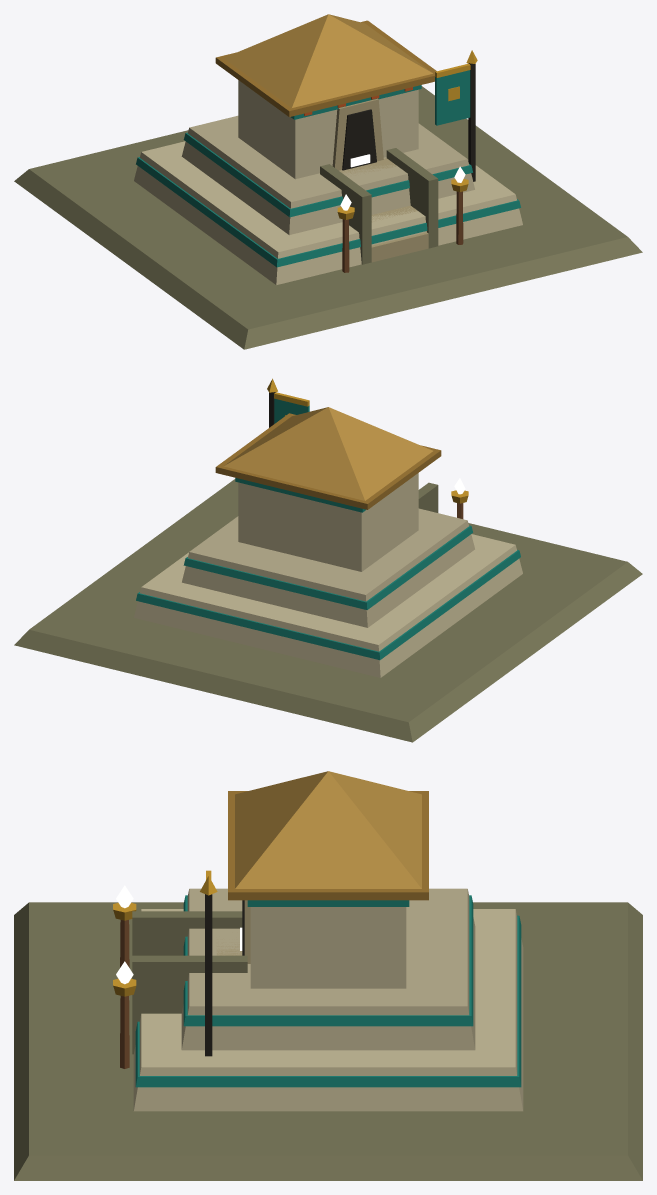
Rendered from castle_t1.glb.
3 views of the same model, one above another, from view 1: azimuth 30°, elevation 25°; view 2: azimuth 150°, elevation 25°; view 3: azimuth 270°, elevation 25° (orthographic). The views are drawn at different scales.
Parts seen in each view (by area): view 1: body; view 2: body; view 3: body.
Part boxes in pixels (x1,y1,x2,y2): body: (14, 14, 642, 349); body: (14, 378, 642, 742); body: (14, 771, 642, 1180).
Size of the model in its own units: 4.2 by 2.04 by 4.2.
